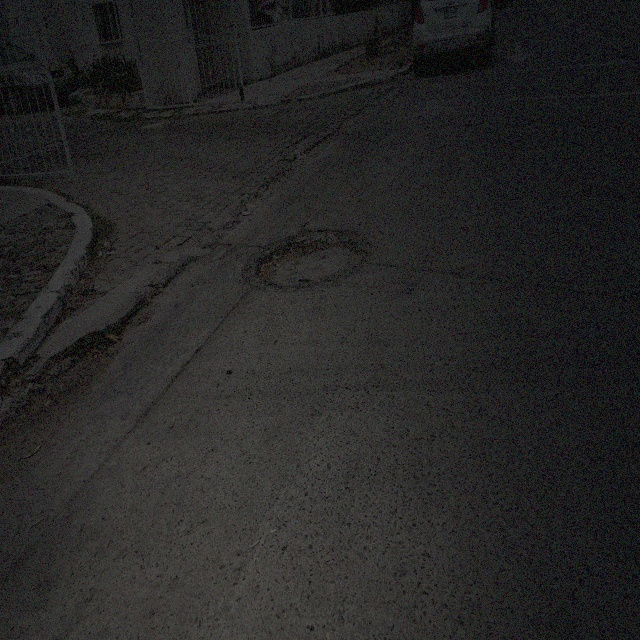pothole: (258, 238, 319, 285)
